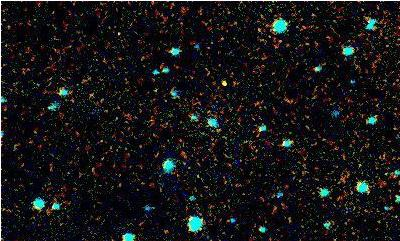star: (213, 63, 243, 93)
